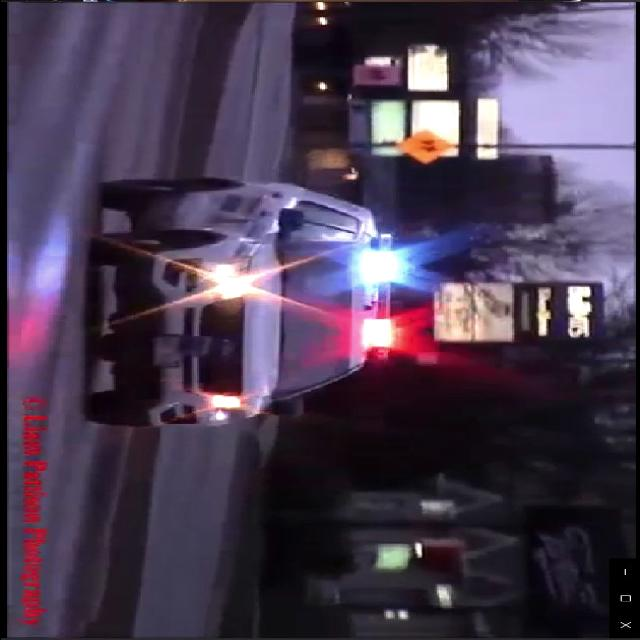emergency: (78, 179, 420, 430)
